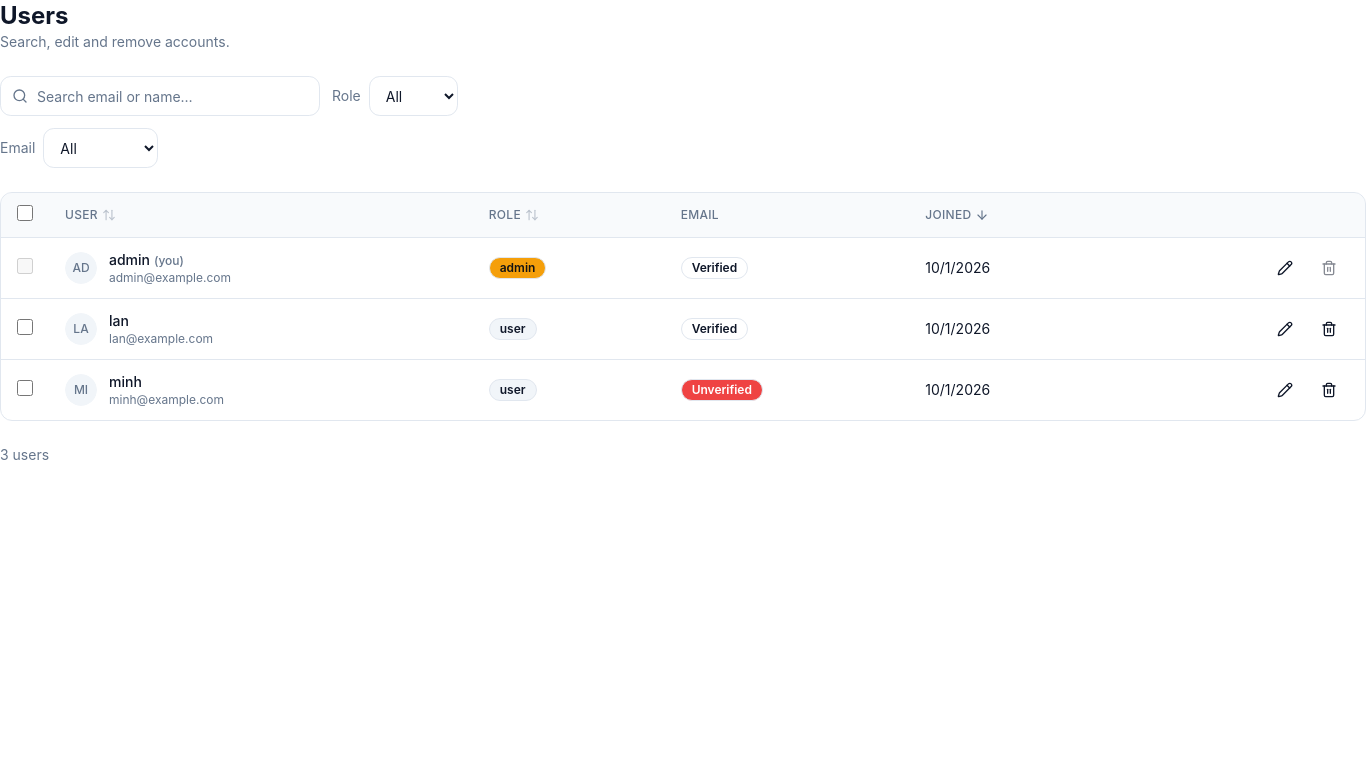
Test: AdminUsersPage › edits a user
Click the button named "Edit minh@example.com".
click(1285, 390)  # box [1265,372,1305,408]
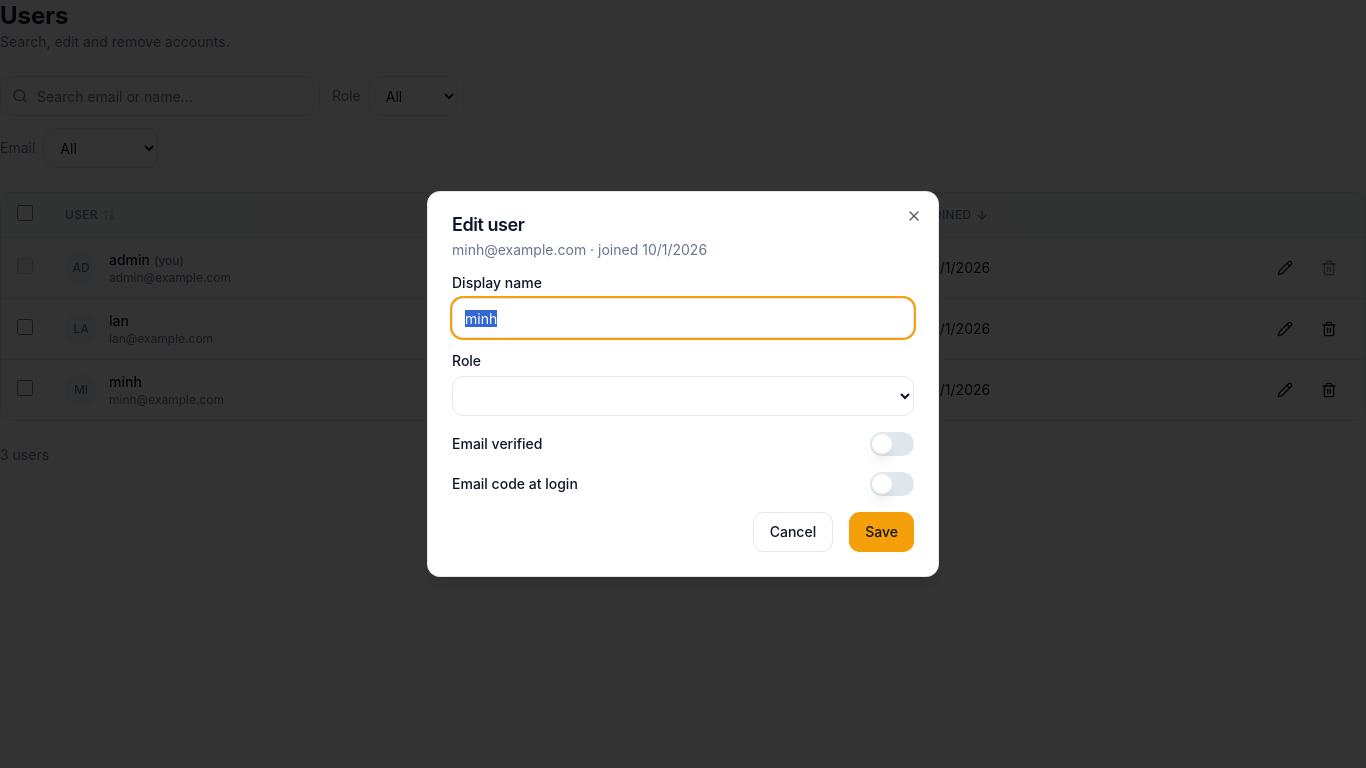
Select "Admin" in the dropdown labelled "Role" at (683, 396), box [452,376,914,416]
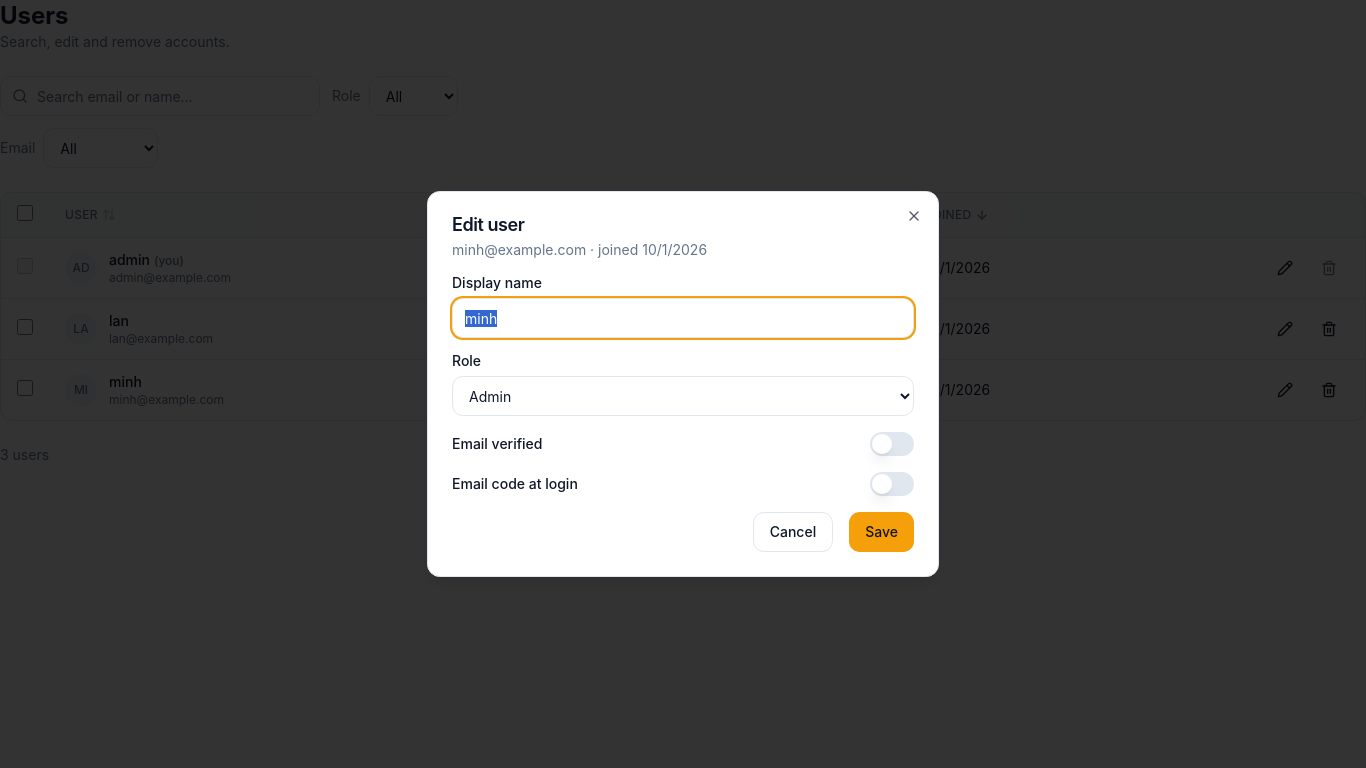
Click the switch named "Email verified" in the row of "Email verified".
click(892, 444)  # box [870,432,914,456]
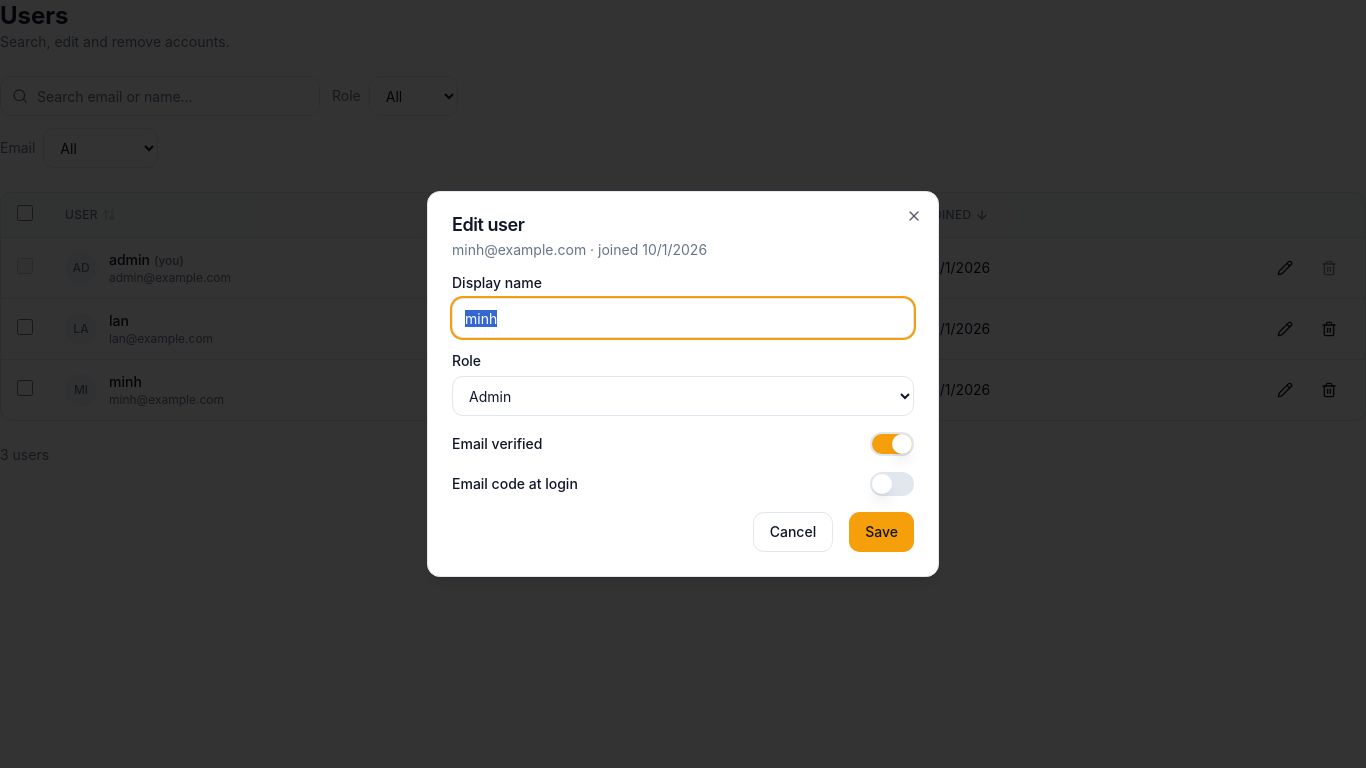
Click the button "Save".
click(882, 532)  # box [849,512,914,552]
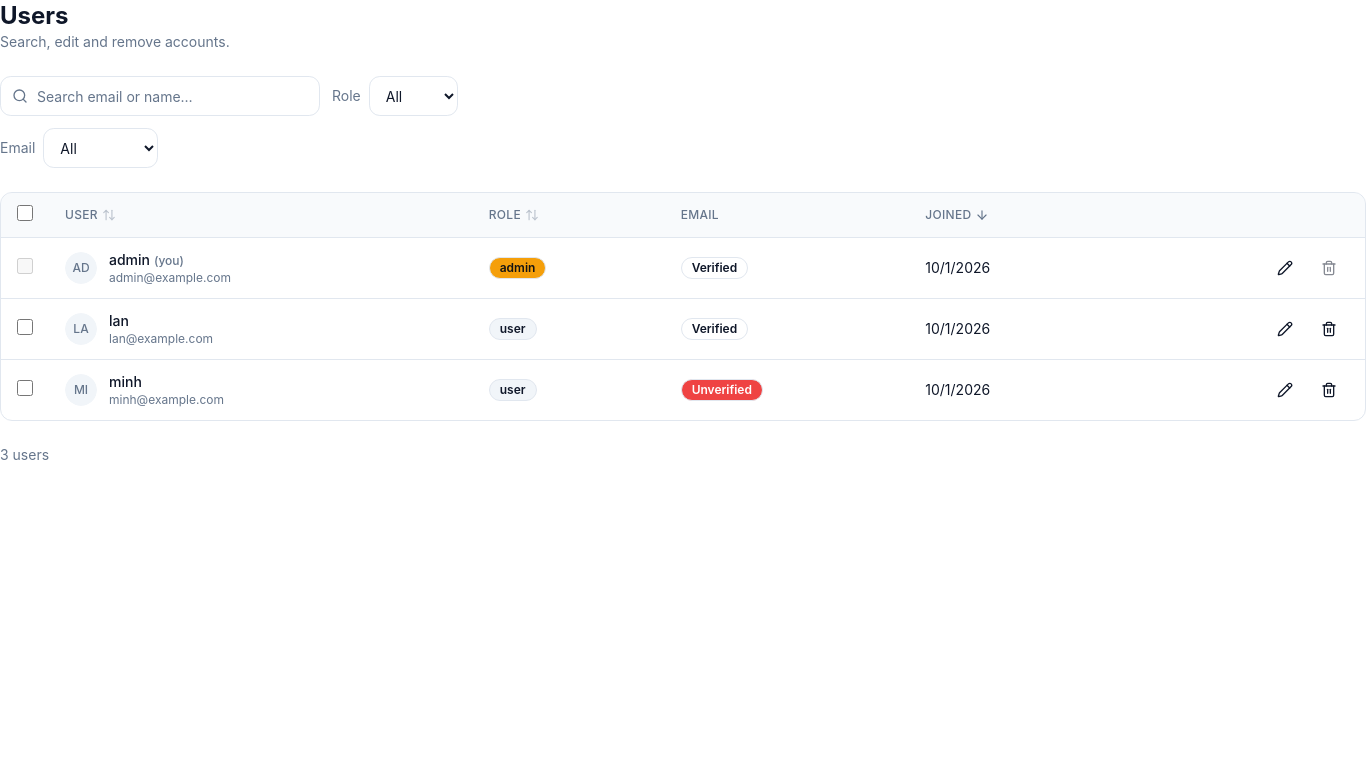
Expected: the dialog is gone
